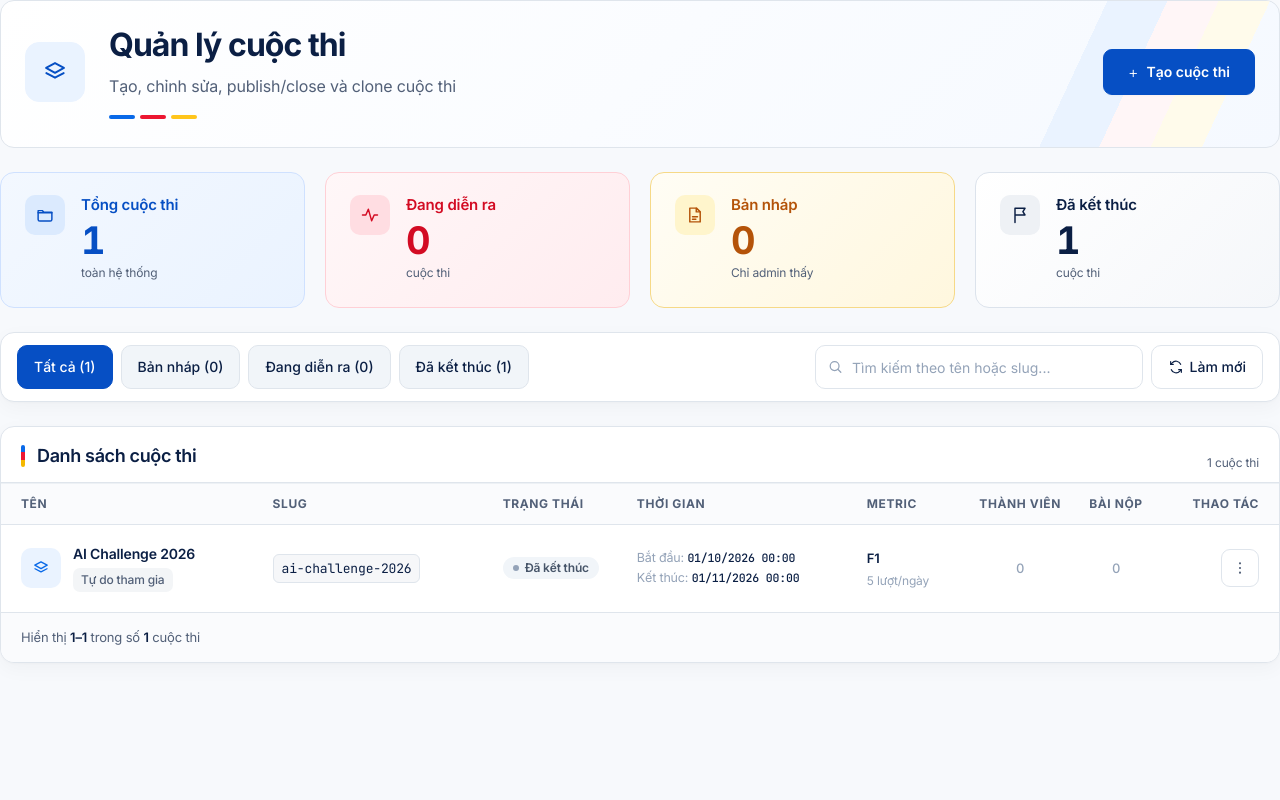
it: closed competition không cho mở form sửa
Click the button named "Thao tác cho AI Challenge 2026".
click(1240, 568)  # box left=1221, top=549, right=1259, bottom=587
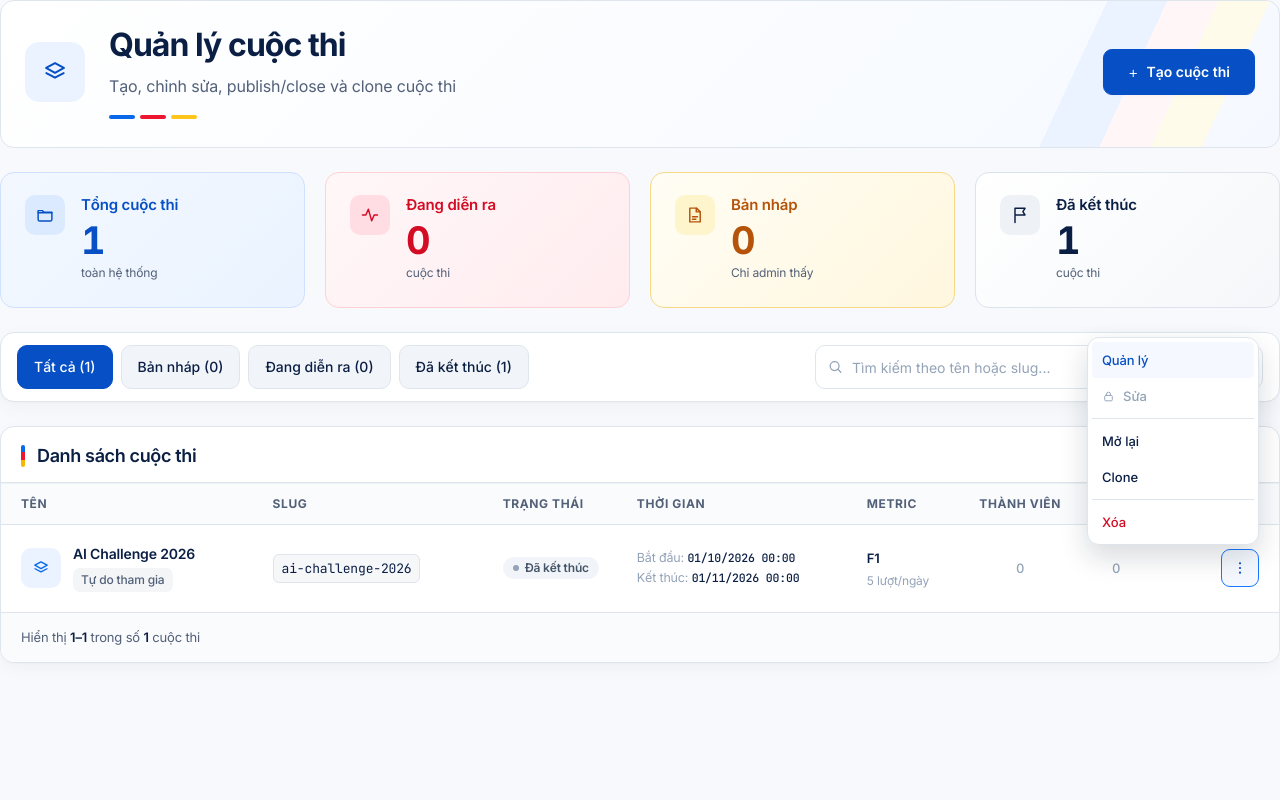
Check: the menu item "Sửa" is disabled, box left=1092, top=378, right=1254, bottom=414
